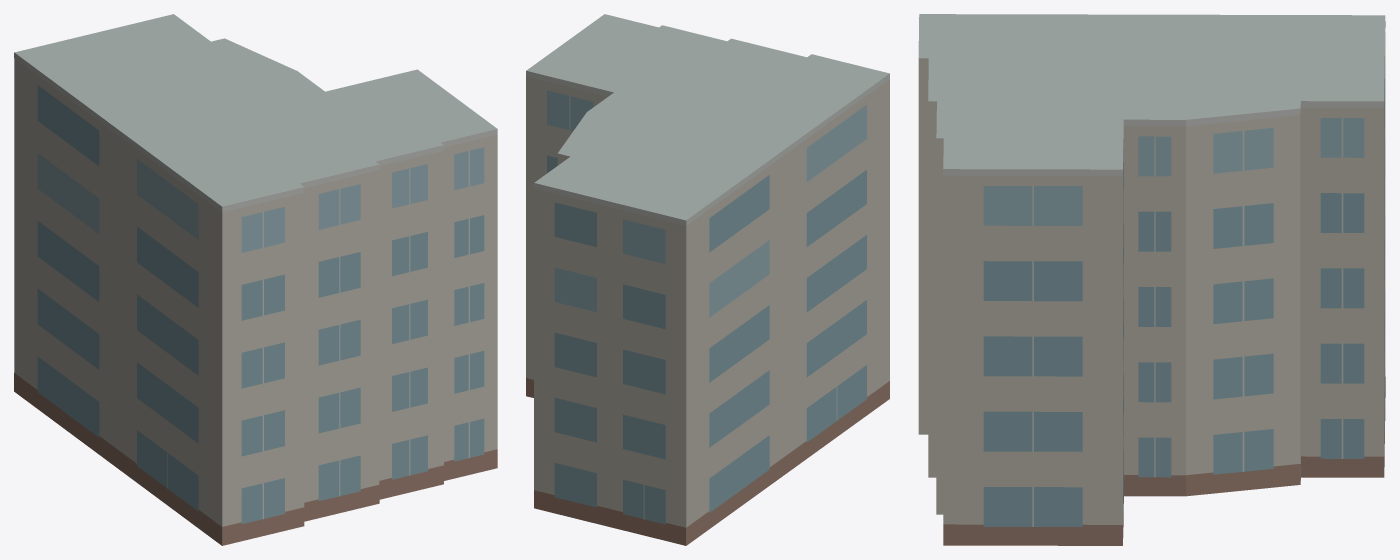
The model's file is survey-upis-32671362.glb.
The picture shows the model from 3 angles, left to right: view 1: azimuth 30°, elevation 25°; view 2: azimuth 150°, elevation 25°; view 3: azimuth 270°, elevation 25°; orthographic projection. The views are drawn at different scales.
Visible parts, largest first — view 1: survey-upis-32671362.tmp; view 2: survey-upis-32671362.tmp; view 3: survey-upis-32671362.tmp.
Boxes of the visible parts, x1,y1,x2,y2 form: survey-upis-32671362.tmp: (14, 14, 497, 545); survey-upis-32671362.tmp: (526, 14, 889, 545); survey-upis-32671362.tmp: (918, 14, 1385, 545).
Size of the model in its own units: 12.68 by 14.3 by 16.09.
